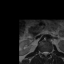CCS_normal: (44, 49, 46, 58)
LFS_normal: (48, 50, 50, 55)
LLS_normal: (46, 49, 49, 56)
RFS_normal: (40, 50, 42, 56)
RLS_normal: (42, 50, 44, 56)
